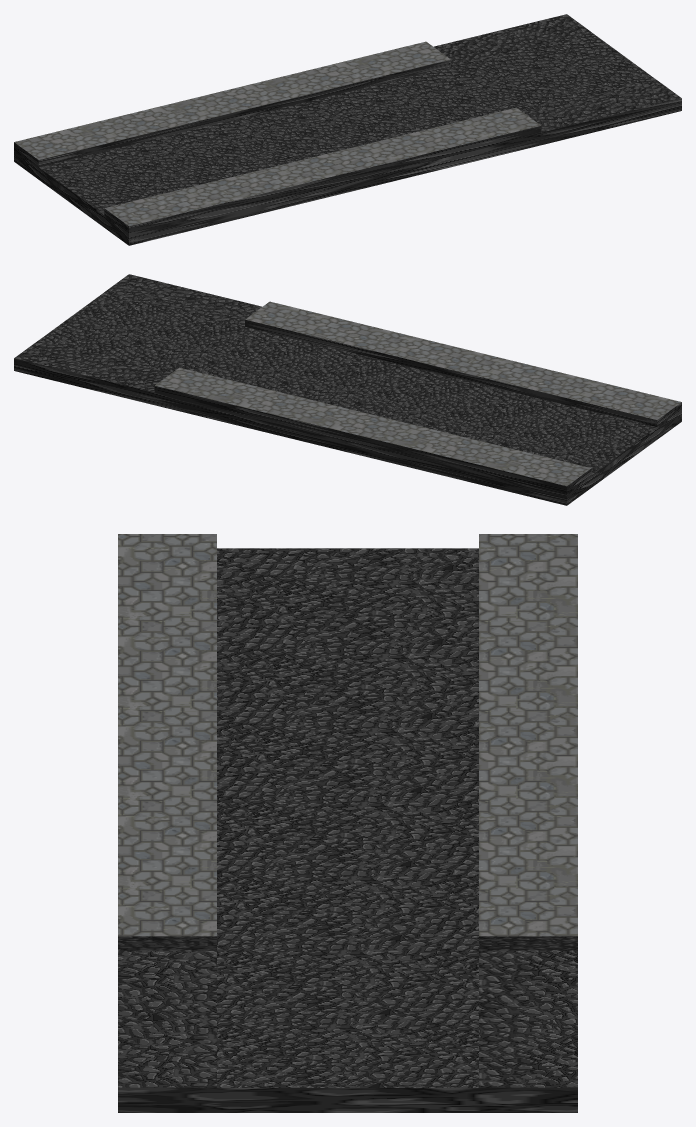
The model's file is road3Textured.fbx.
3 renders of one model, top to bottom at view 1: azimuth 30°, elevation 25°; view 2: azimuth 150°, elevation 25°; view 3: azimuth 270°, elevation 25°, orthographic. The views are drawn at different scales.
Parts seen in each view (by area): view 1: Cube.053; view 2: Cube.053; view 3: Cube.053.
Part boxes in pixels (box(x1,y1,x2,y2)): Cube.053: box(14, 14, 681, 245); Cube.053: box(14, 274, 681, 505); Cube.053: box(118, 534, 577, 1112).
Size of the model in its own units: 1289 by 43.57 by 464.
